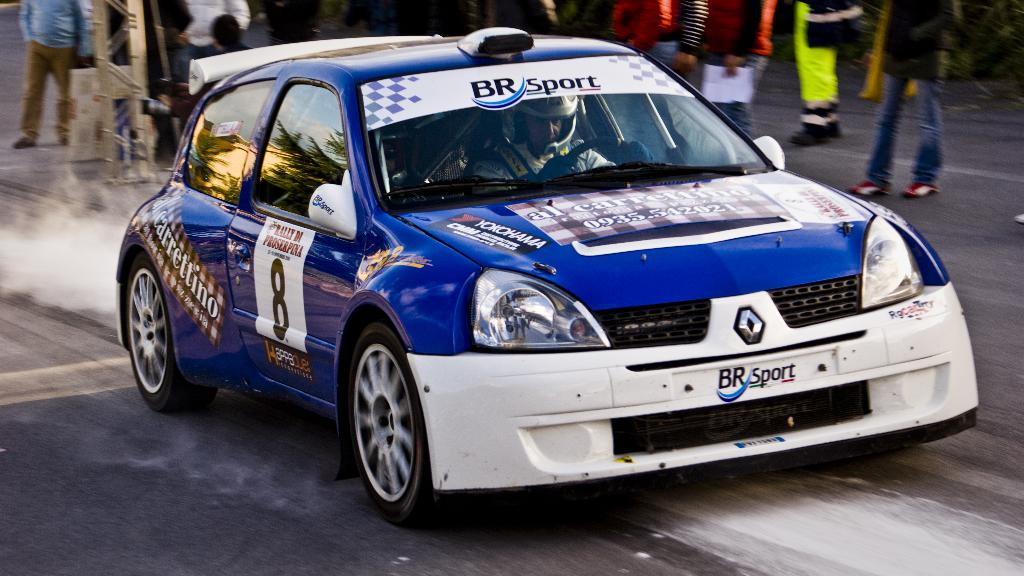Person: (12, 0, 1024, 225)
